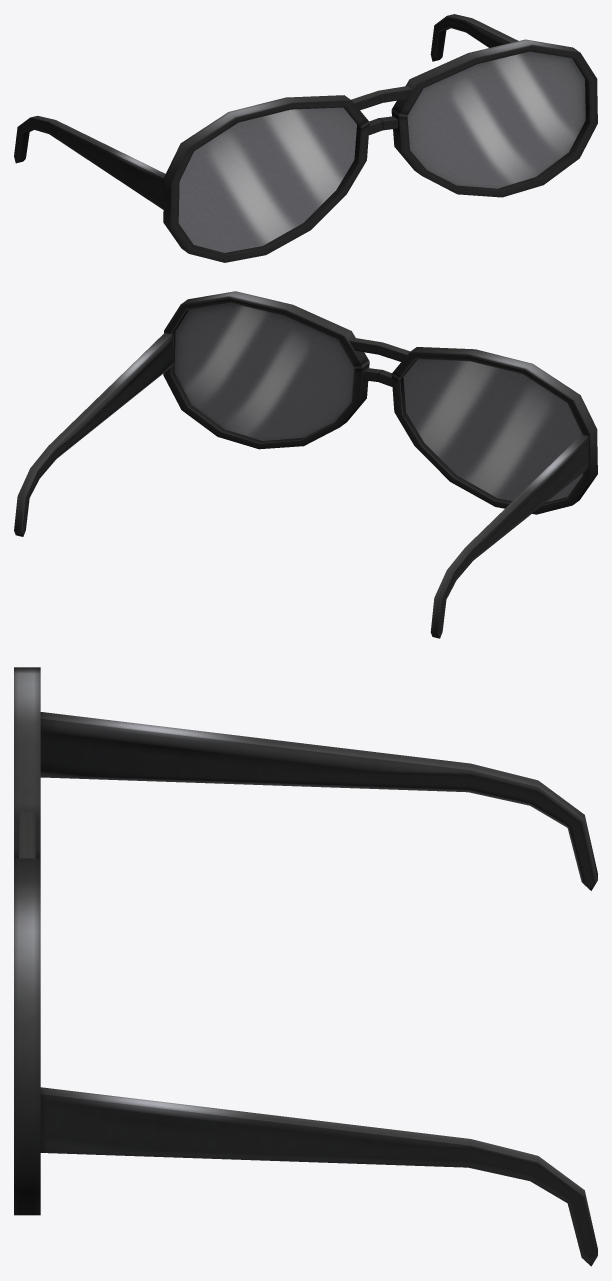
Rendered from TuShuGuan_01_yanjing_01.FBX.
3 renders of one model, top to bottom at view 1: azimuth 30°, elevation 25°; view 2: azimuth 150°, elevation 25°; view 3: azimuth 270°, elevation 25°, orthographic. The views are drawn at different scales.
Visible parts, largest first — view 1: TuShuGuan_yanjing_01; view 2: TuShuGuan_yanjing_01; view 3: TuShuGuan_yanjing_01.
Boxes of the visible parts, box(x1,y1,x2,y2) form: TuShuGuan_yanjing_01: box(14, 14, 597, 262); TuShuGuan_yanjing_01: box(14, 291, 597, 638); TuShuGuan_yanjing_01: box(14, 667, 597, 1266).
Size of the model in its own units: 89.19 by 29.06 by 57.16.
